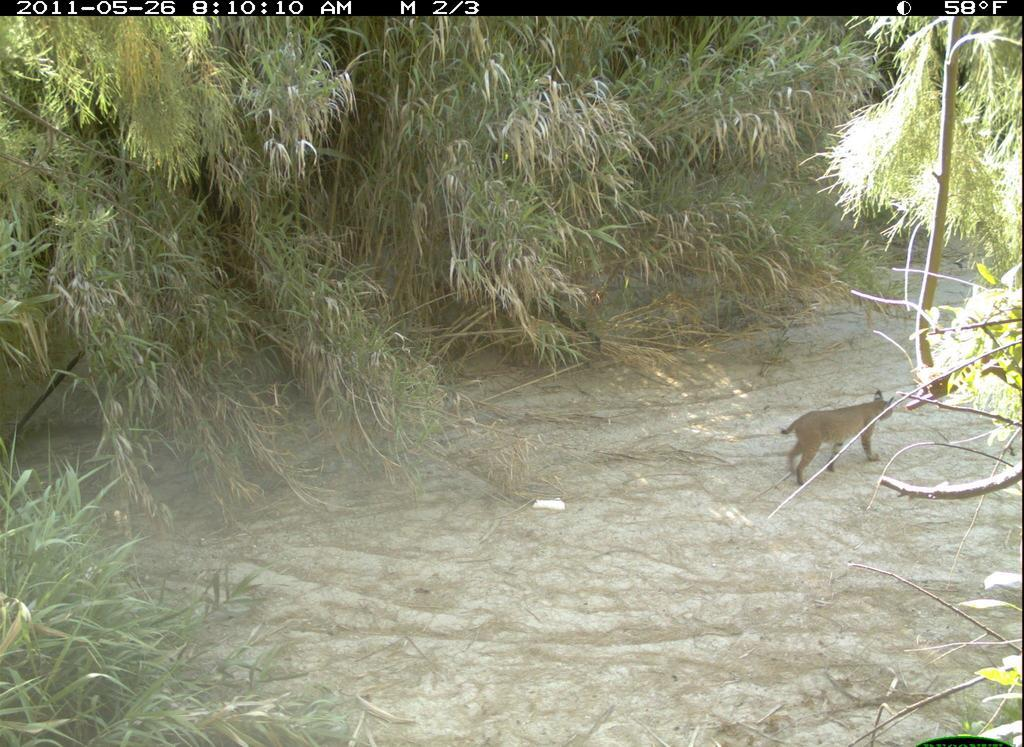bobcat: (779, 388, 902, 491)
